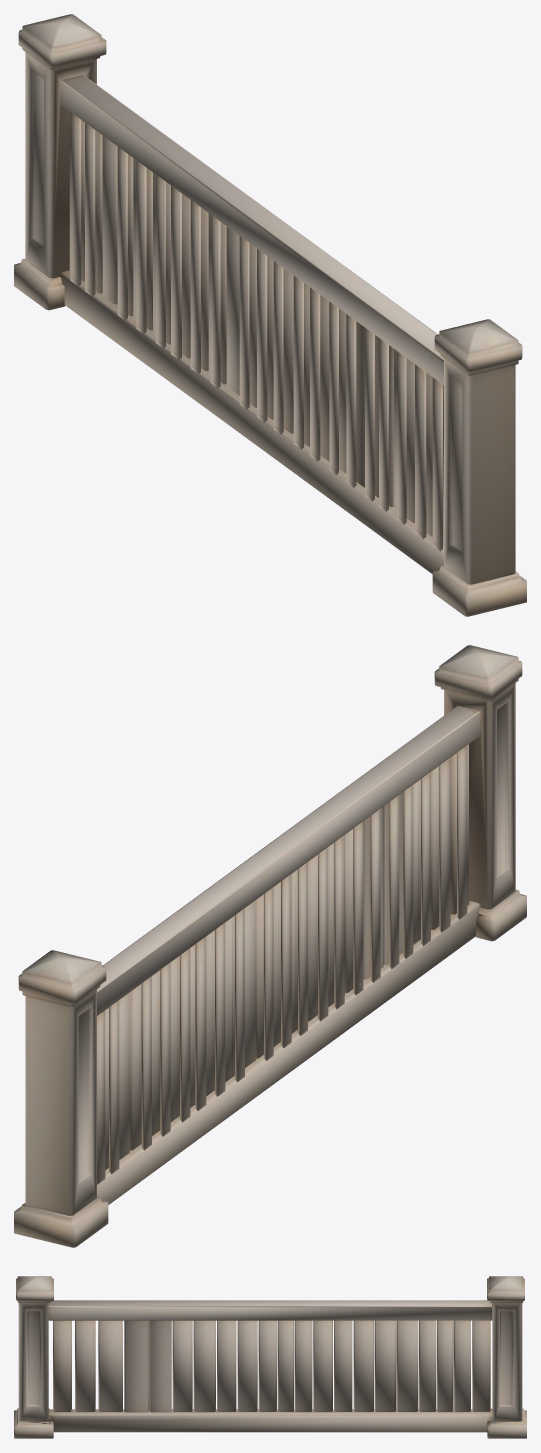
Rendered from palisade_wall_151f582d_v3.glb.
3 renders of one model, top to bottom at view 1: azimuth 30°, elevation 25°; view 2: azimuth 150°, elevation 25°; view 3: azimuth 270°, elevation 25°, orthographic. The views are drawn at different scales.
Parts seen in each view (by area): view 1: material; view 2: material; view 3: material.
Boxes of the visible parts, left/top/right/bottom form: material: left=14, top=14, right=526, bottom=616; material: left=14, top=645, right=526, bottom=1247; material: left=14, top=1276, right=526, bottom=1438.
Size of the model in its own units: 0.1503 by 0.6223 by 1.9.
1 material, 1 textured.
